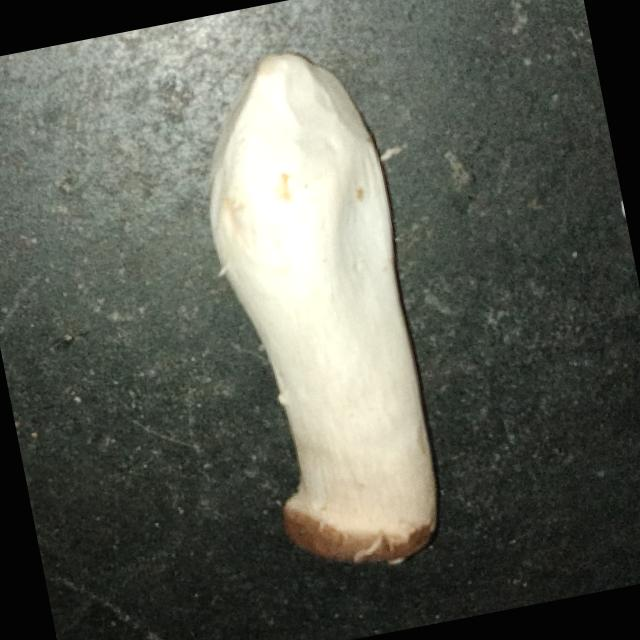Pleurotus eryngii: (179, 36, 459, 584)
